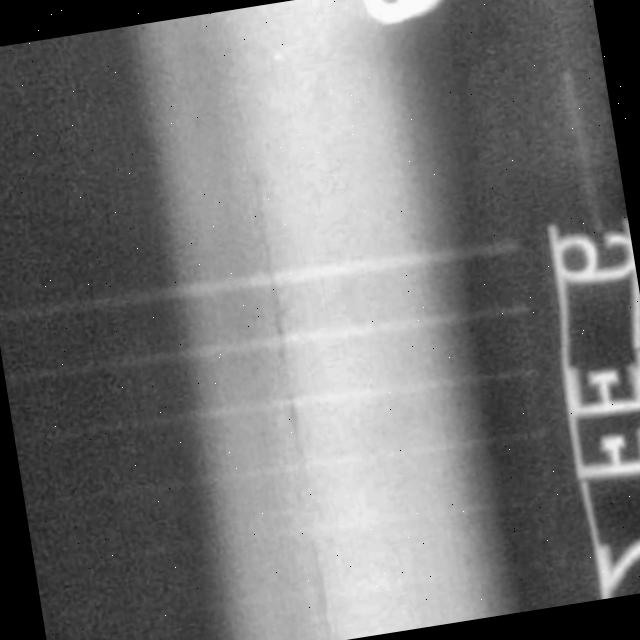LoP-LoF: (213, 154, 359, 636)
